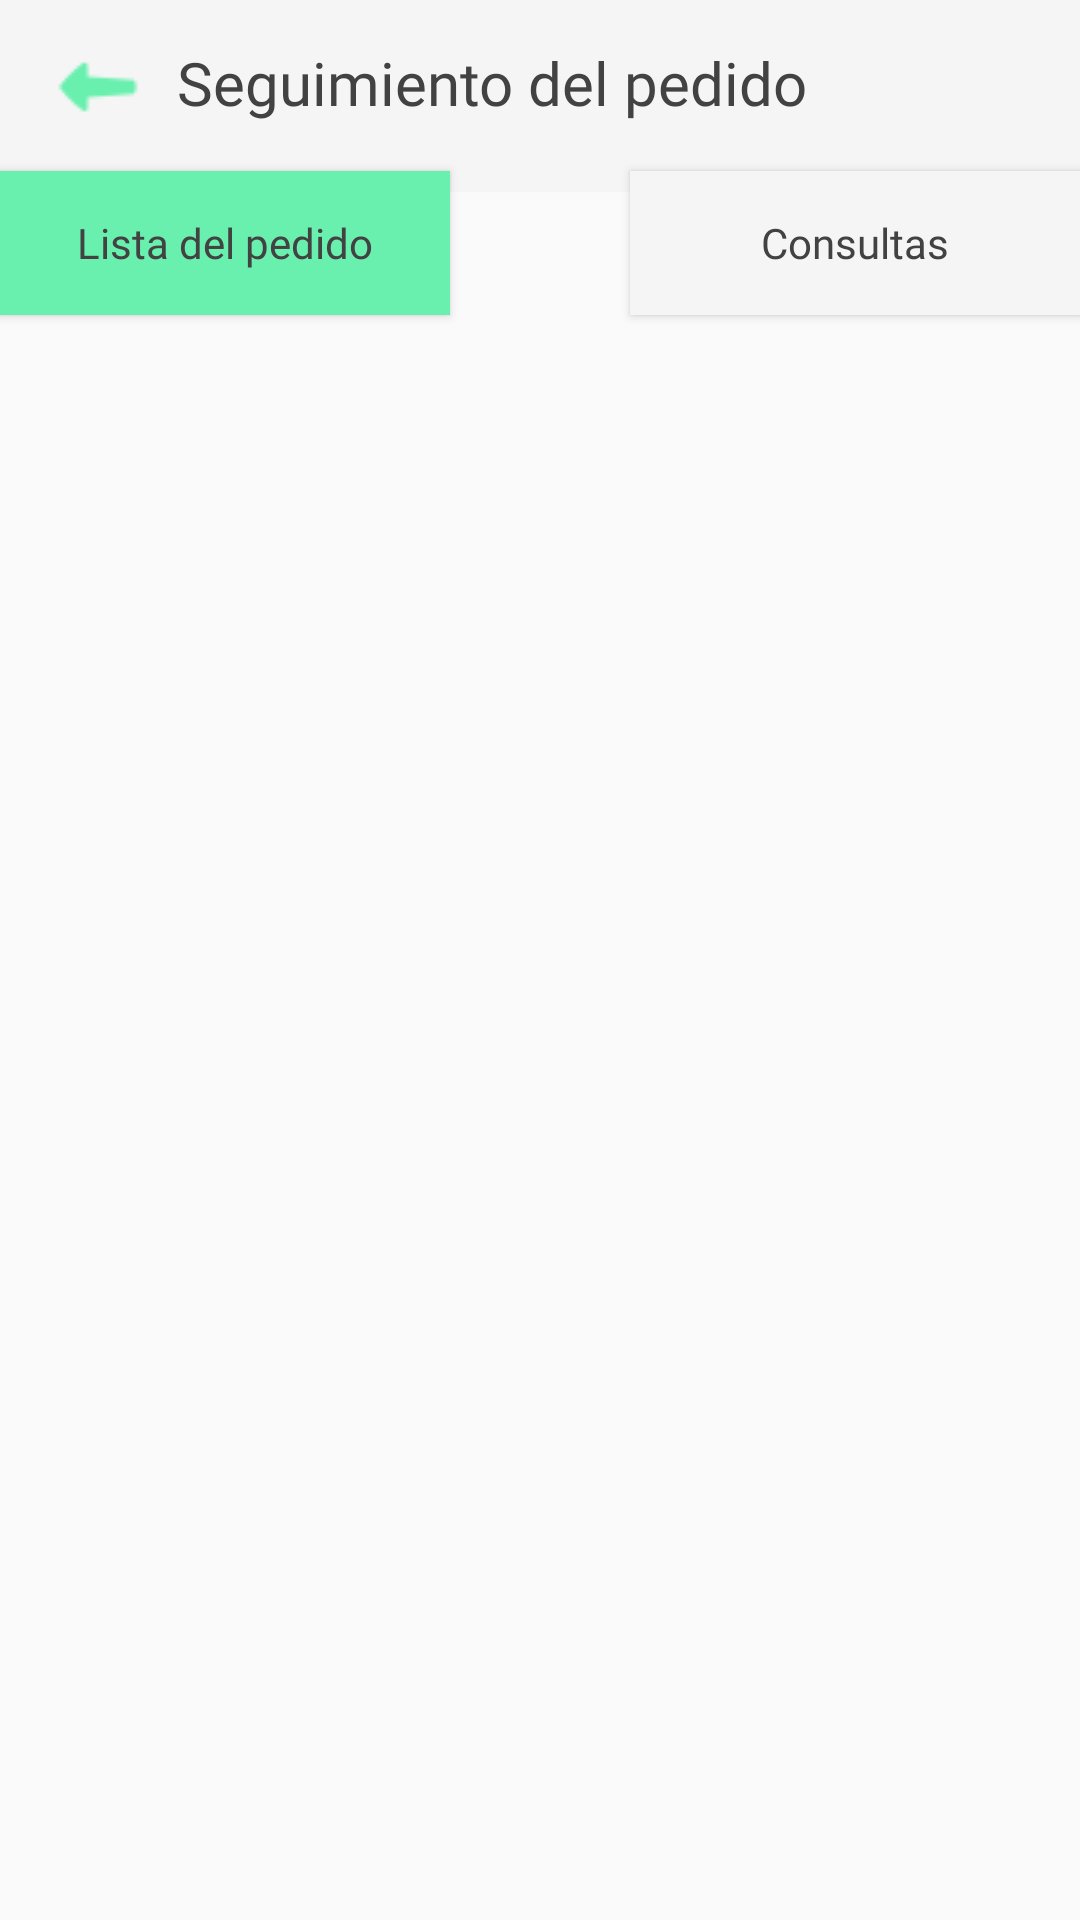

Named icons in this screenshot (1080 x 1920) and their bounding boxes, detection(x1, y1, x2, y2):
back: detection(59, 62, 138, 112)
